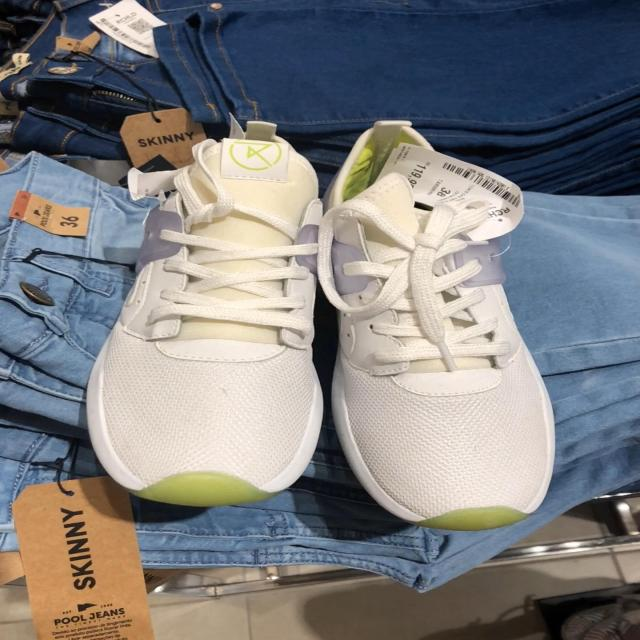shoe: (318, 122, 556, 532), (84, 113, 324, 513)
